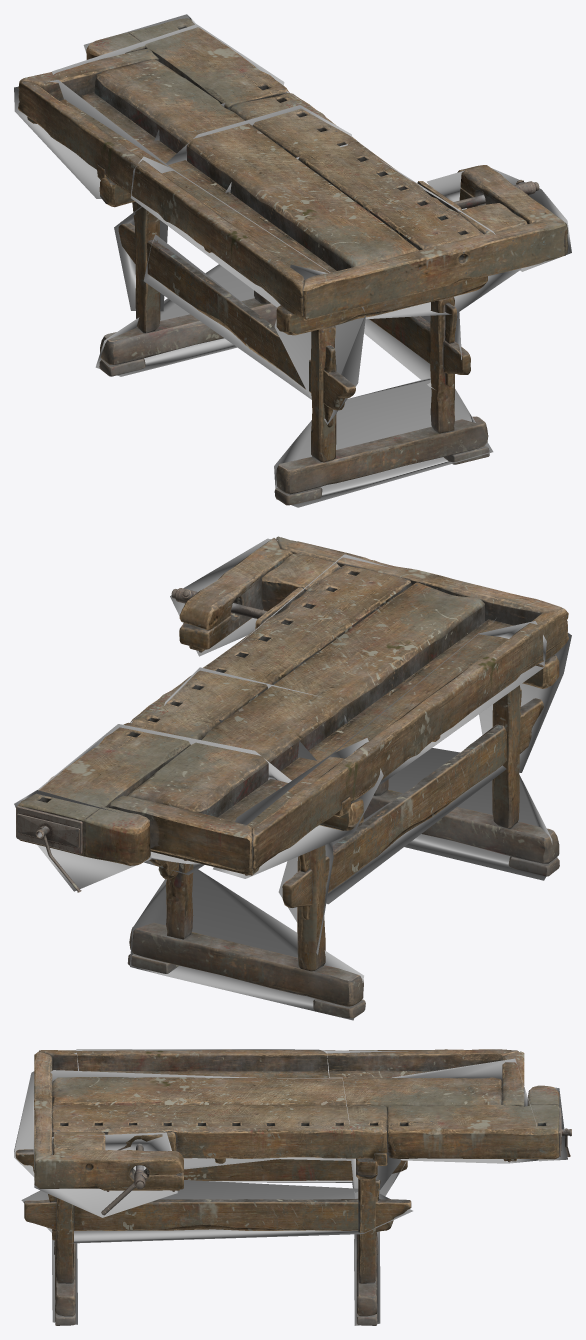
File: SM_Workbench_02.gltf
3 views of the same model, one above another, from view 1: azimuth 30°, elevation 25°; view 2: azimuth 150°, elevation 25°; view 3: azimuth 270°, elevation 25° (orthographic). The views are drawn at different scales.
Visible parts, largest first — view 1: SM_Workbench_02_LOD0, SM_Workbench_02_ConvexHulls; view 2: SM_Workbench_02_LOD0, SM_Workbench_02_ConvexHulls; view 3: SM_Workbench_02_LOD0, SM_Workbench_02_ConvexHulls.
Part boxes in pixels (x1,y1,x2,y2): SM_Workbench_02_LOD0: (18,18,568,505); SM_Workbench_02_ConvexHulls: (14,14,571,507); SM_Workbench_02_LOD0: (16,536,568,1018); SM_Workbench_02_ConvexHulls: (14,538,571,1020); SM_Workbench_02_LOD0: (15,1049,571,1325); SM_Workbench_02_ConvexHulls: (14,1049,567,1325).
Size of what is drawn, in the model's own units: 1.42 by 1.04 by 2.62.
